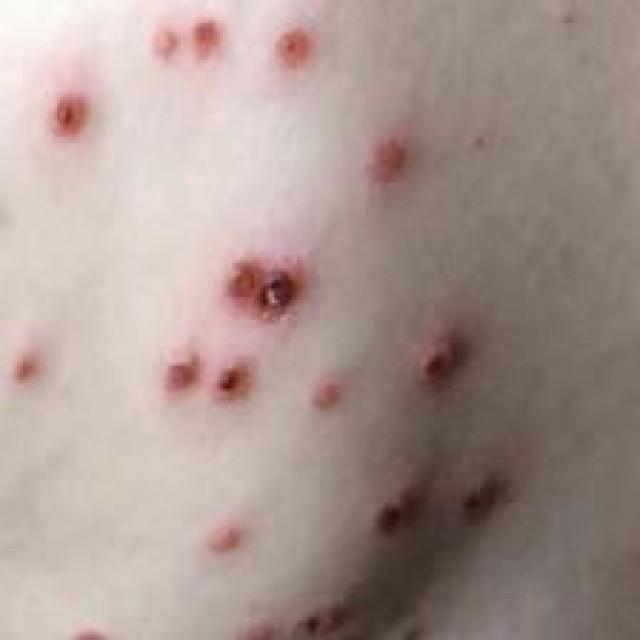others: (0, 0, 580, 631)
